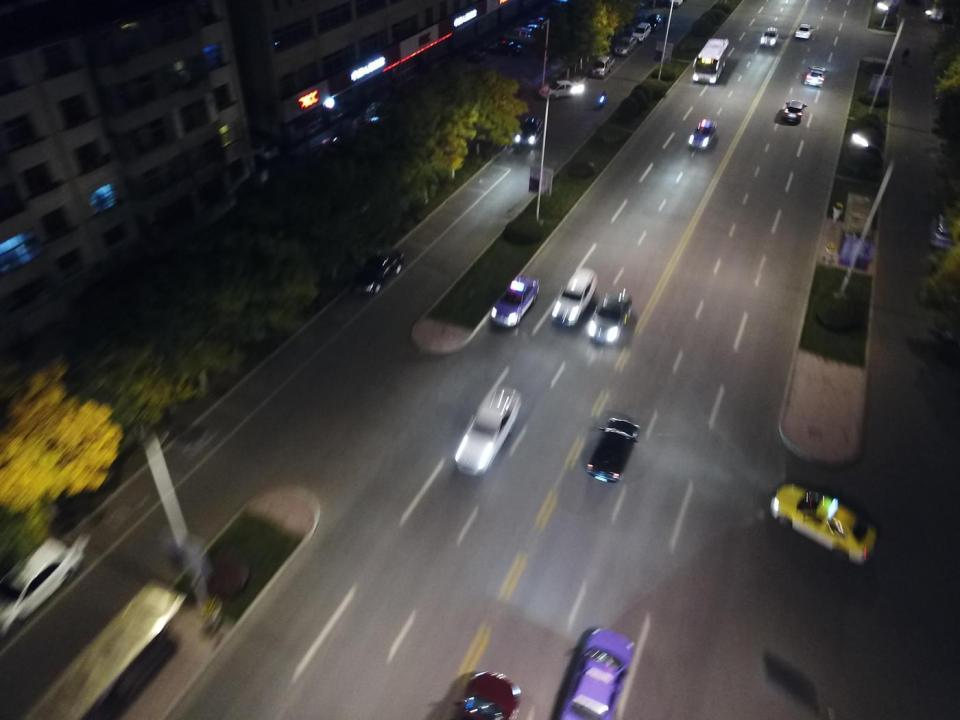bus: (17, 578, 187, 720), (691, 38, 728, 83)
car: (0, 531, 89, 637), (768, 481, 876, 564), (556, 627, 636, 720), (453, 387, 523, 473), (584, 416, 638, 486), (454, 672, 522, 720), (586, 287, 634, 350), (552, 267, 597, 328), (492, 278, 539, 330), (354, 250, 402, 294), (932, 205, 958, 250), (687, 120, 717, 152), (511, 116, 543, 146), (538, 79, 583, 99), (780, 98, 807, 124), (322, 136, 360, 154), (365, 109, 396, 129), (488, 40, 523, 57), (502, 26, 536, 43), (804, 65, 828, 89), (614, 36, 637, 57), (364, 97, 390, 115), (353, 118, 377, 136), (926, 0, 948, 19), (514, 22, 540, 36), (632, 23, 650, 43), (760, 27, 778, 46), (795, 23, 814, 39), (644, 13, 660, 31), (524, 15, 546, 28), (553, 0, 570, 11), (670, 0, 683, 8)
truck: (592, 54, 615, 78)
van: (230, 133, 278, 163)
